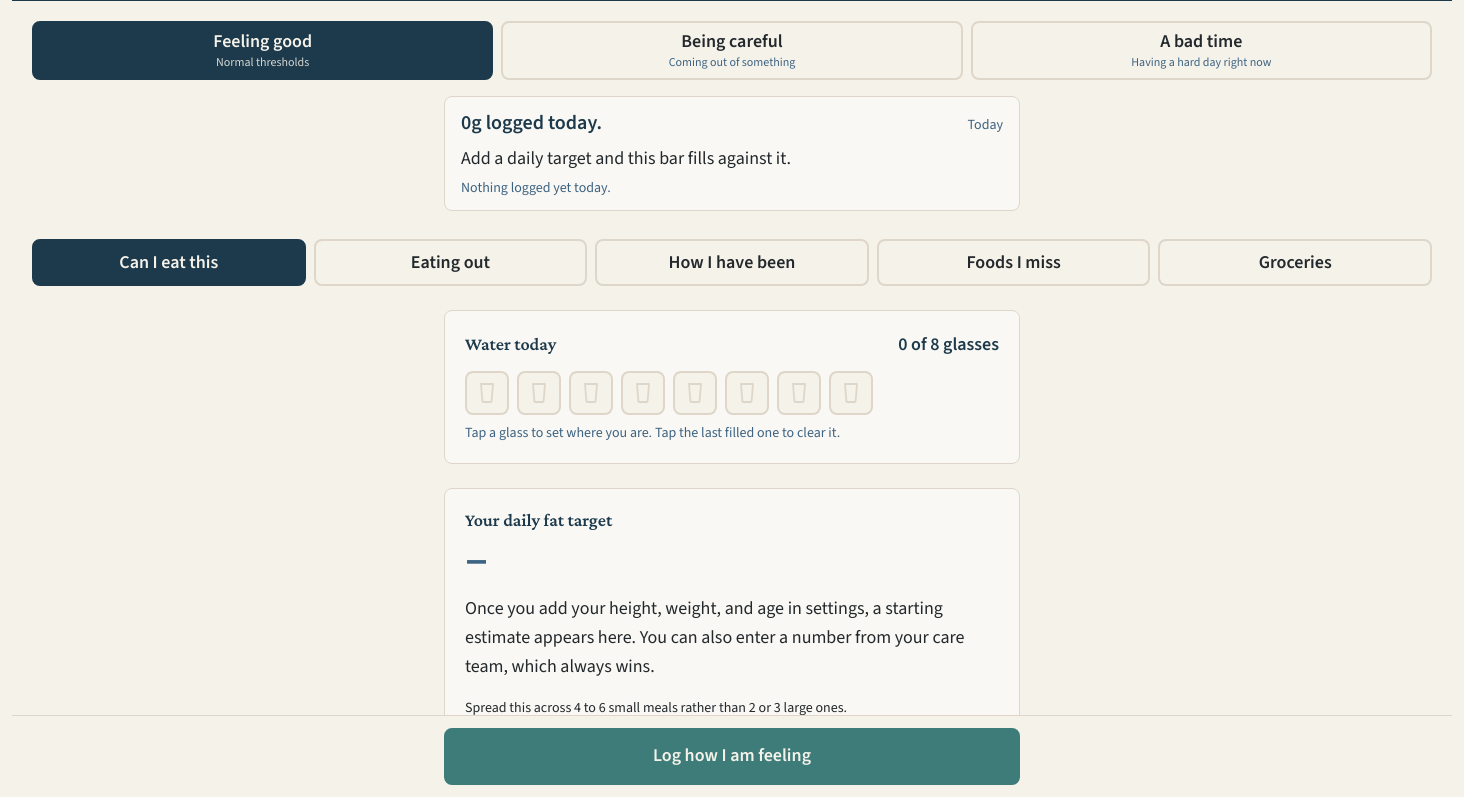
Test: hydration row › clears back to none when she taps the glass she is on
This screenshot has width=1464, height=797.
(page scrolled)
Click the button named "Set today to 3 of 8": (591, 393) [569,371,613,415]
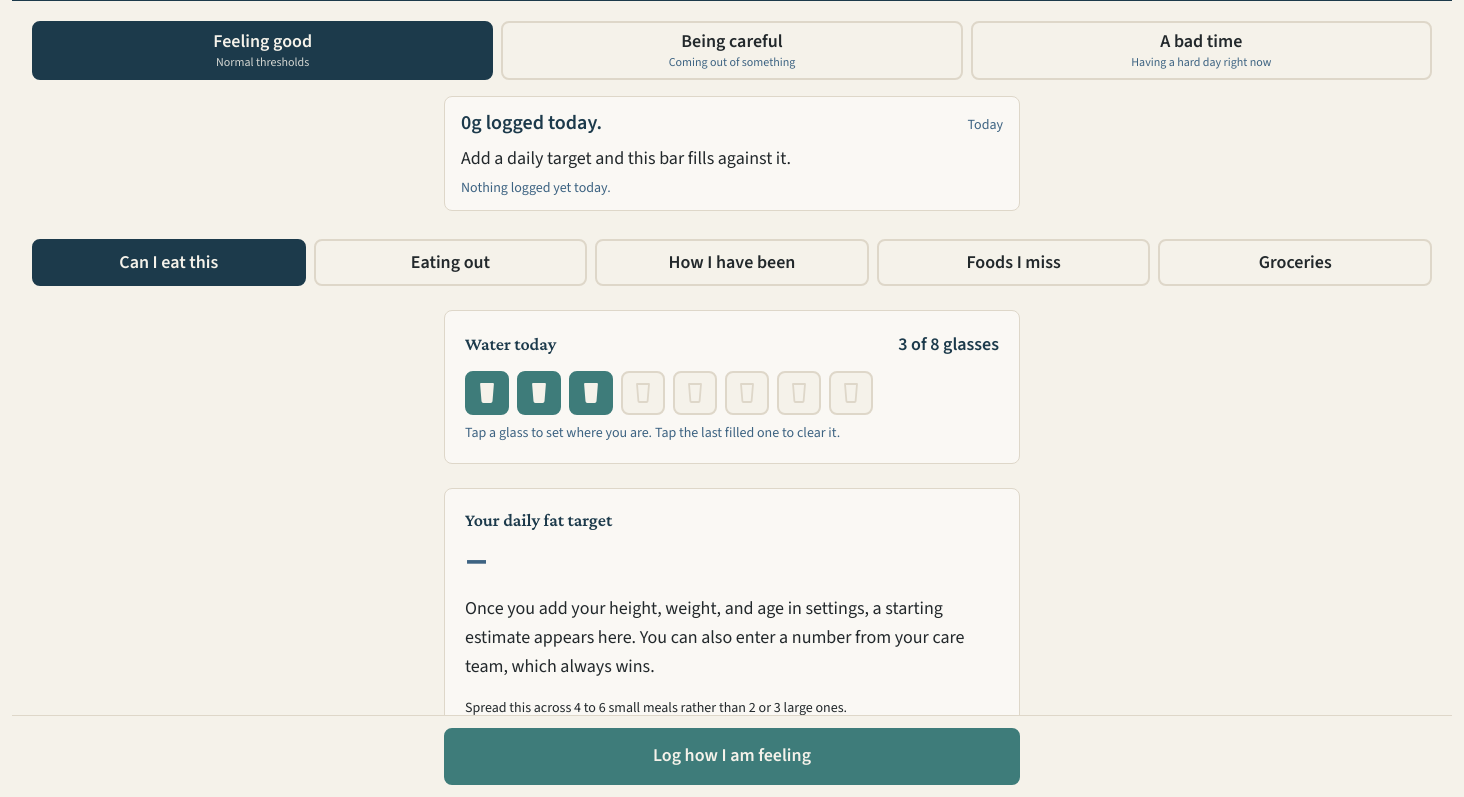
Expected: the text "3 of 8 glasses" is shown, [898,331,999,359]
Click the button named "Clear today back to no glasses": (591, 393) [569,371,613,415]
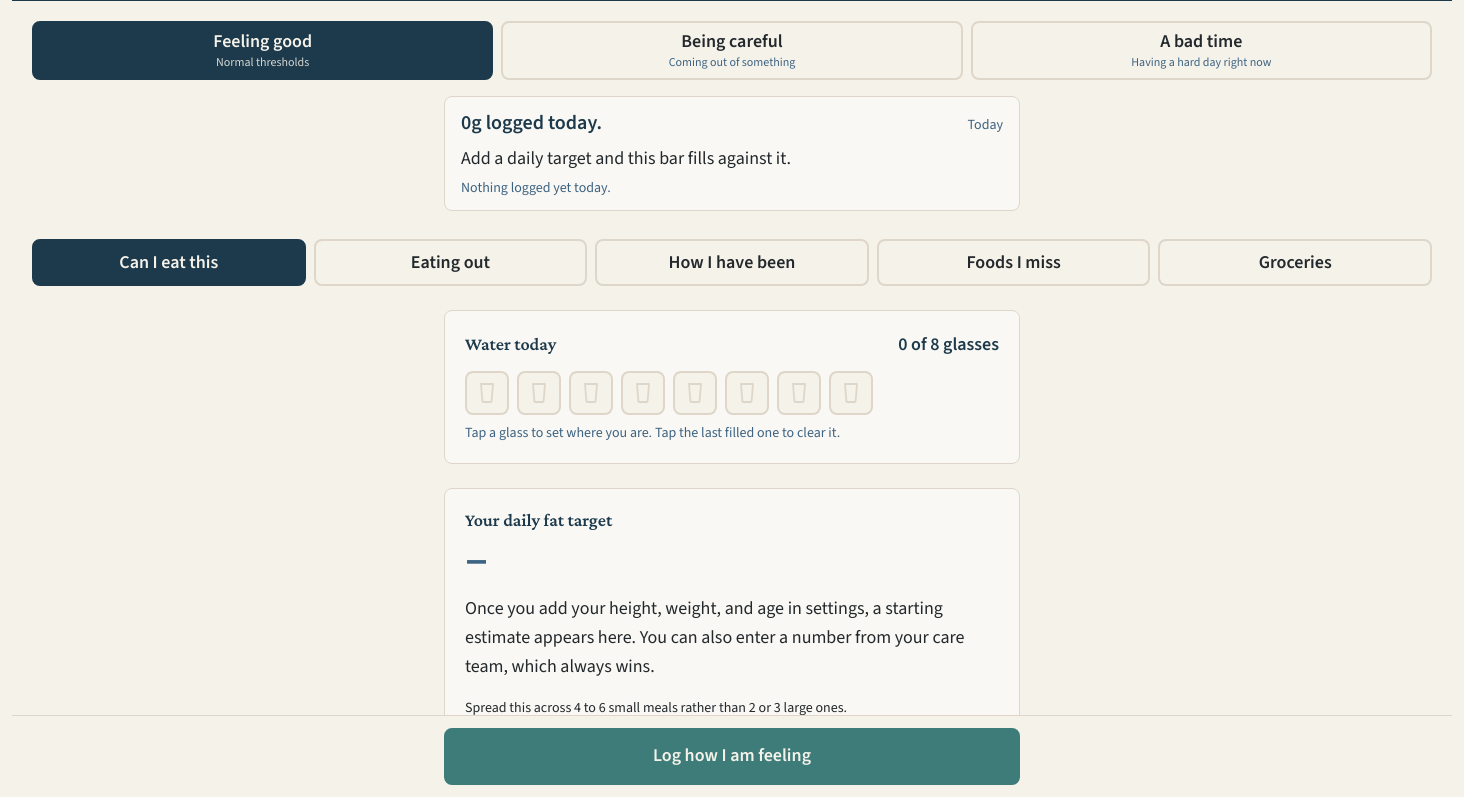
Expected: the text "0 of 8 glasses" is shown, [898,331,999,359]
